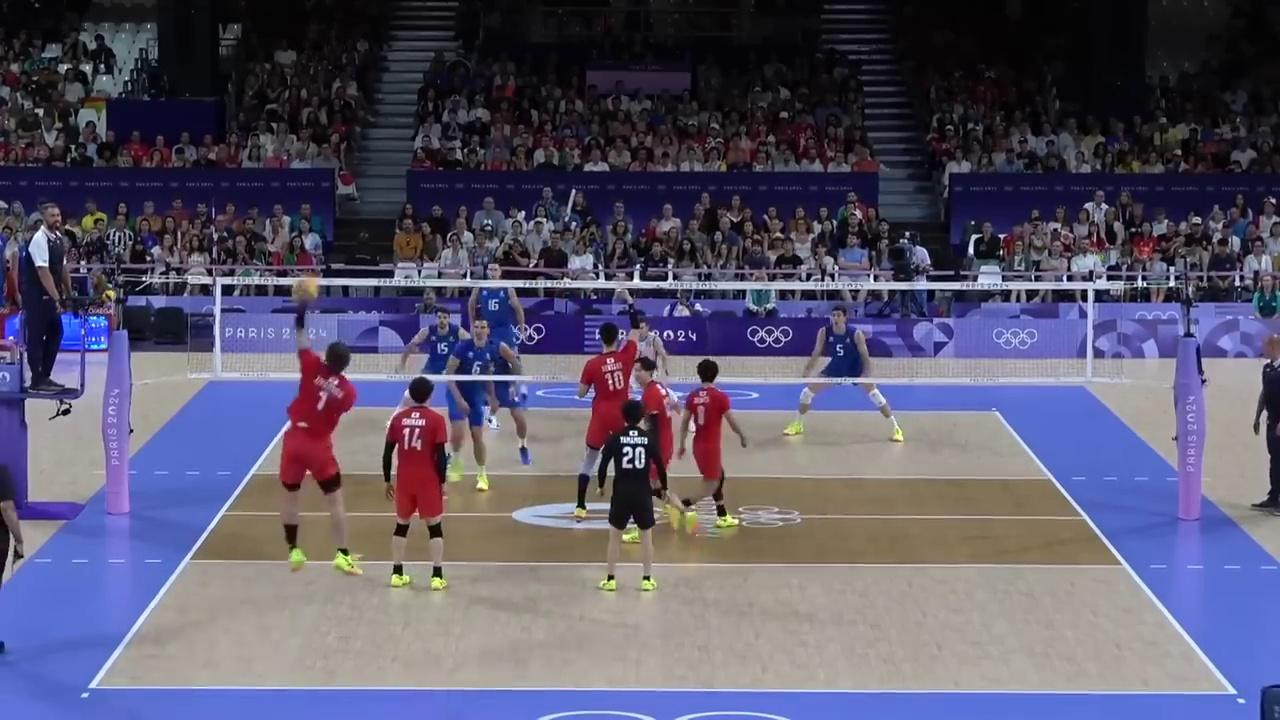ball: (293, 279, 317, 301)
